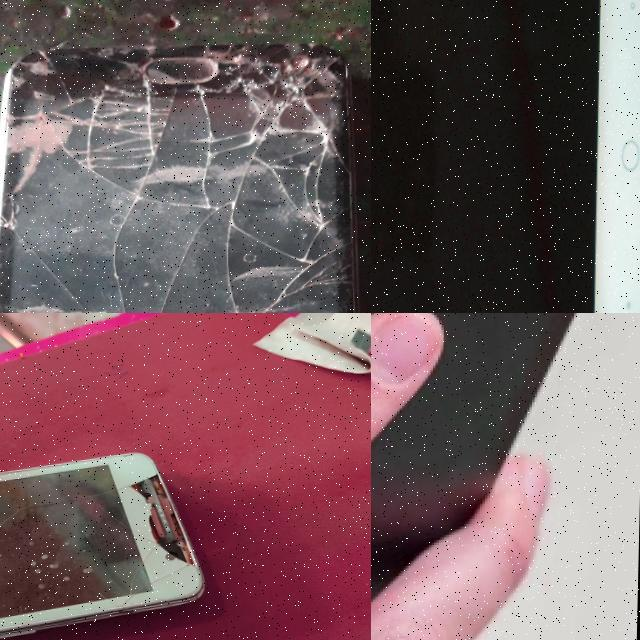screen crack: (0, 26, 371, 313), (0, 447, 212, 627)
